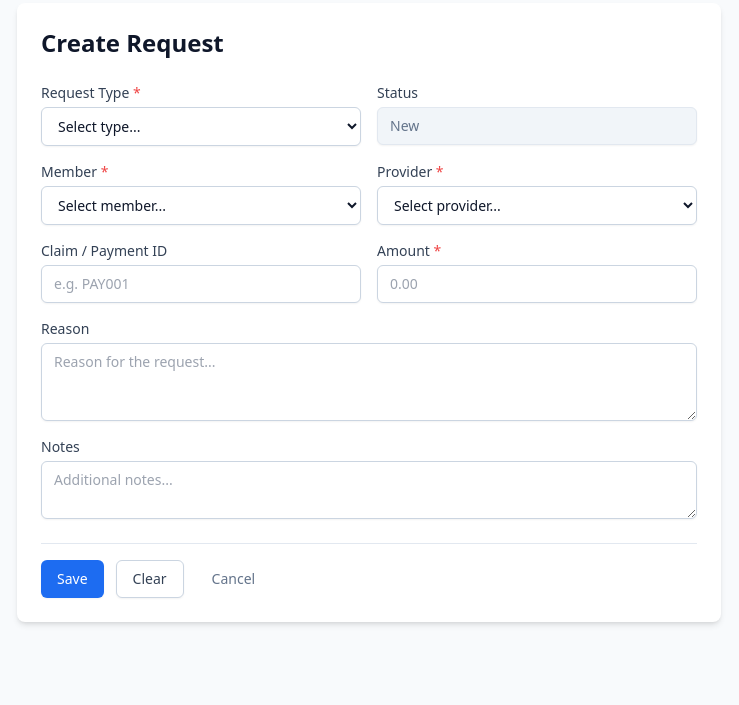
Test: RequestForm › successful save › navigates to edit mode after successful save
This screenshot has width=739, height=705.
Select "Recoupment" in the dropdown labelled "Request Type *" at (201, 126), box [41, 107, 361, 146]
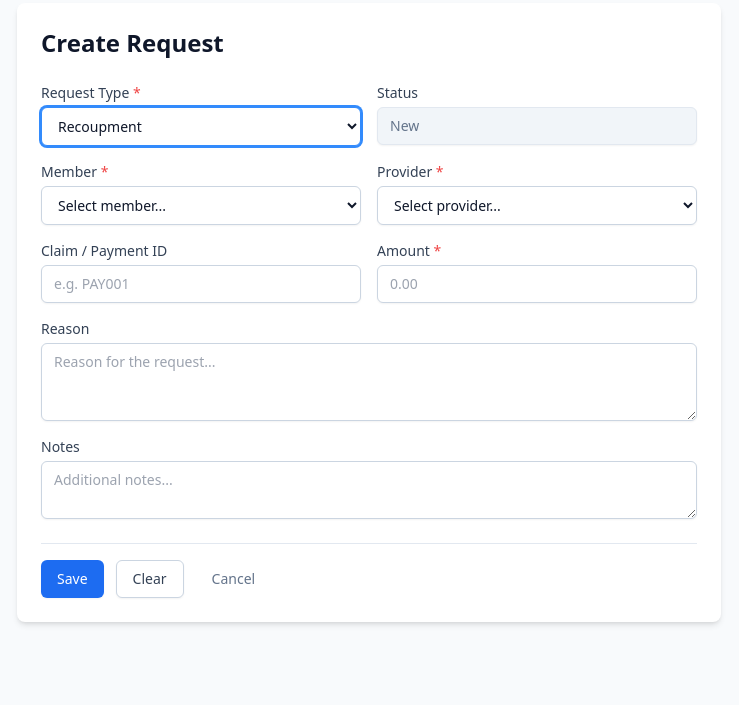
Select "MEM002 — Jane Doe" in the dropdown labelled "Member *" at (201, 206), box [41, 186, 361, 225]
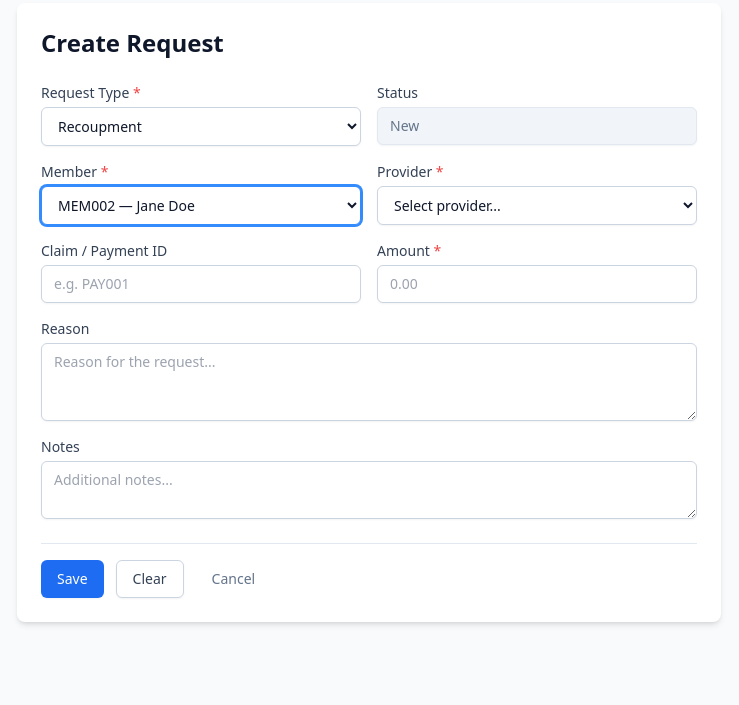
Select "PRV002 — Lakeside Medical Center" in the dropdown labelled "Provider *" at (537, 206), box [377, 186, 697, 225]
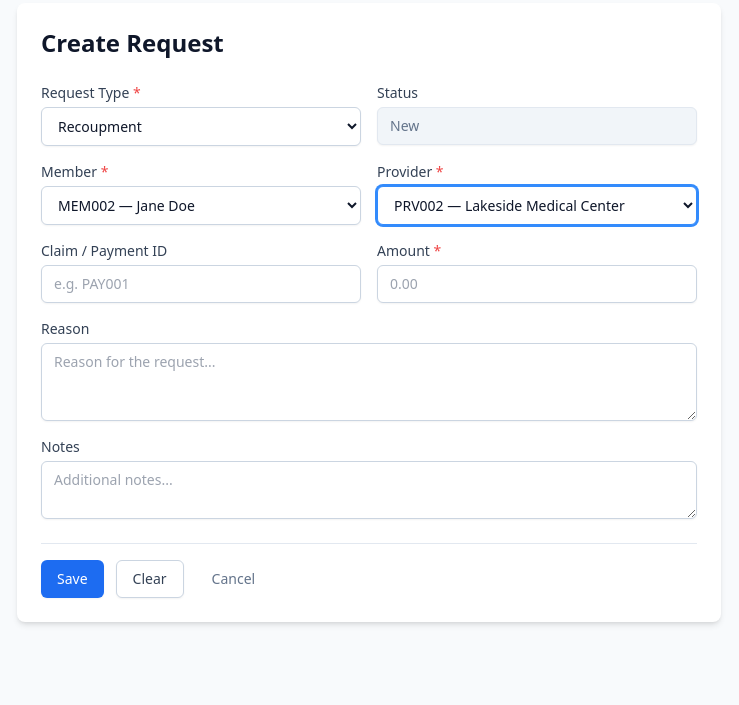
Type "500" into the number field labelled "Amount *".
click(537, 284); type("500")  # box [377, 265, 697, 303]
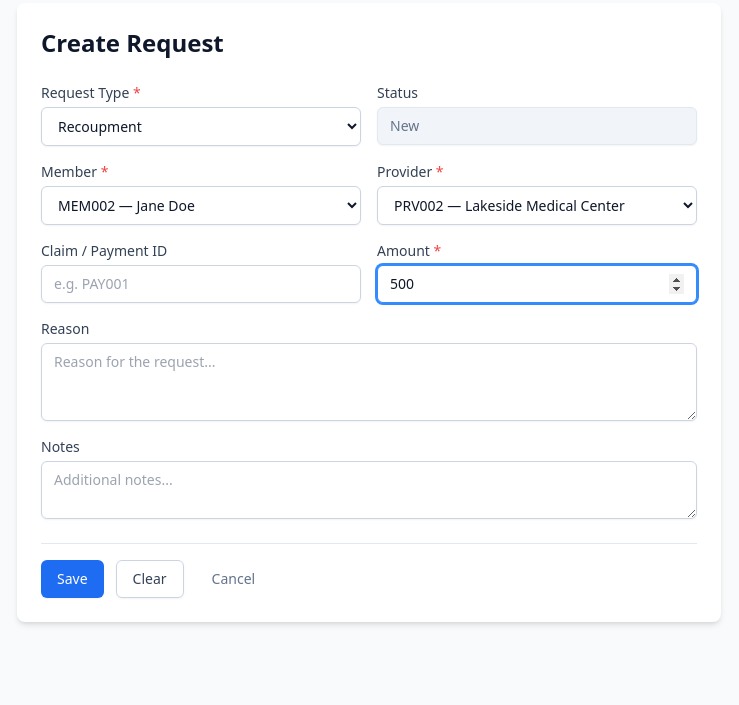
Click the button "Save".
click(72, 579)  # box [41, 560, 104, 598]
Wait 1000 ms
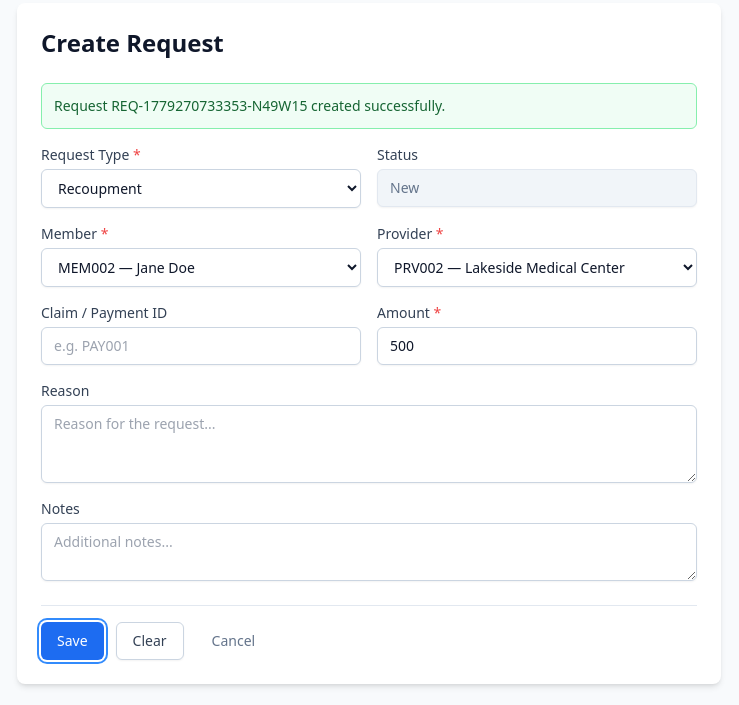
expect the text "Request REQ-1779270733353-N49W15 created successfully." is shown: met, box [54, 96, 445, 115]
